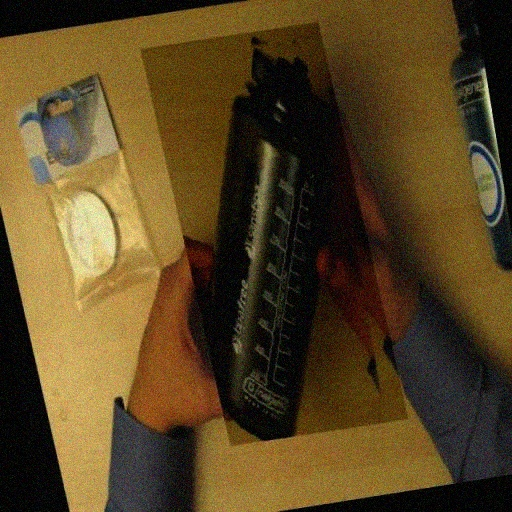bottle: (140, 17, 402, 451)
